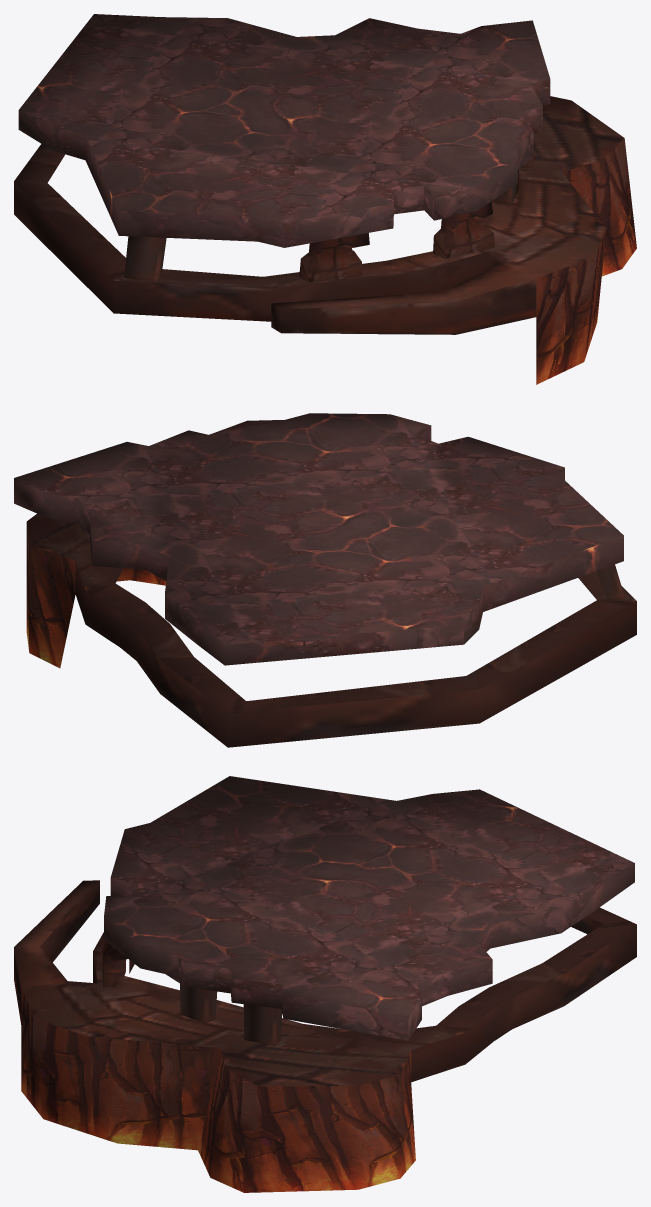
The model's file is terrain06.FBX.
3 views of the same model, one above another, from view 1: azimuth 30°, elevation 25°; view 2: azimuth 150°, elevation 25°; view 3: azimuth 270°, elevation 25° (orthographic). The views are drawn at different scales.
Parts seen in each view (by area): view 1: terrain06; view 2: terrain06; view 3: terrain06.
Part boxes in pixels (x1,y1,x2,y2): terrain06: (14, 14, 636, 384); terrain06: (14, 413, 636, 747); terrain06: (14, 776, 636, 1192).
Bounding box in the file's own units: 1511 × 1565 × 464.
